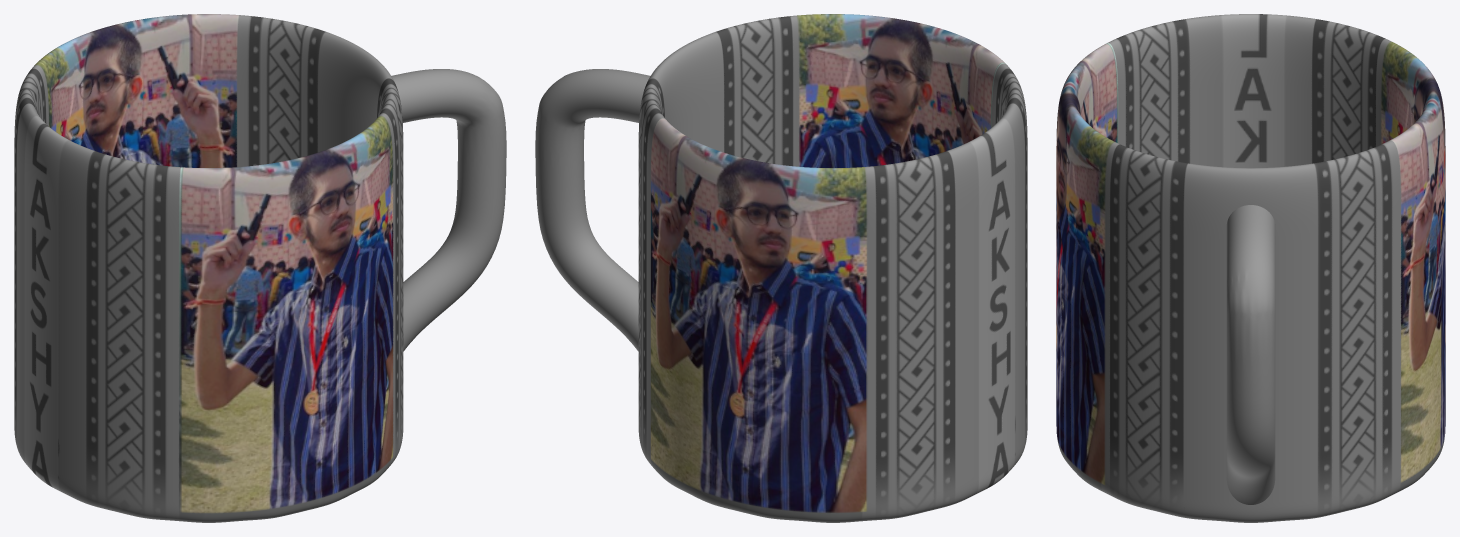
File: my_mug.glb
The picture shows the model from 3 angles, left to right: view 1: azimuth 30°, elevation 25°; view 2: azimuth 150°, elevation 25°; view 3: azimuth 270°, elevation 25°; orthographic projection.
Parts seen in each view (by area): view 1: Cylinder001, Rectangle001; view 2: Cylinder001, Rectangle001; view 3: Cylinder001, Rectangle001.
Part boxes in pixels (x1,y1,x2,y2): Cylinder001: [14, 14, 403, 522]; Rectangle001: [391, 69, 506, 351]; Cylinder001: [638, 14, 1027, 522]; Rectangle001: [535, 69, 650, 351]; Cylinder001: [1056, 14, 1445, 522]; Rectangle001: [1226, 205, 1275, 504].
Size of the model in its own units: 0.1616 by 0.119 by 0.1176.
2 materials, 1 textured.
